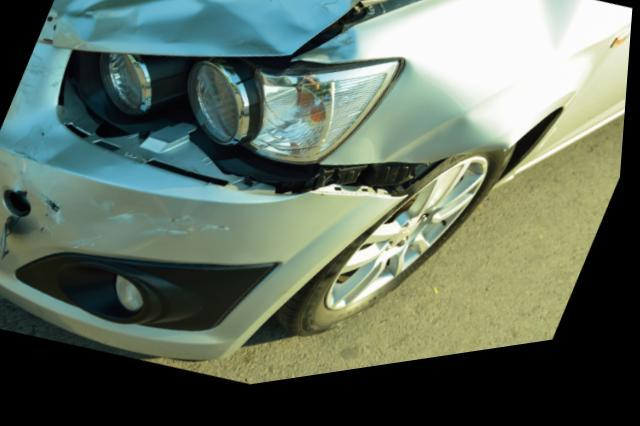dent: (343, 0, 573, 174), (61, 0, 368, 64)
dislocated part: (0, 112, 438, 374)
scratch: (40, 194, 235, 259)
